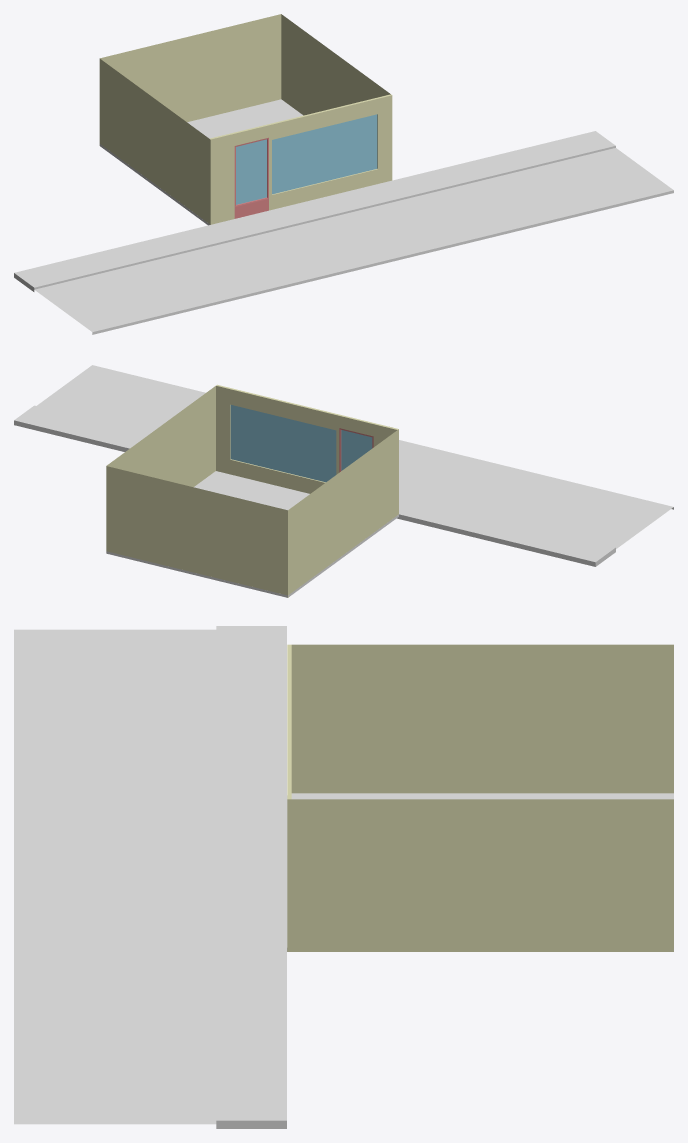
File: SM_Tienda.fbx
3 renders of one model, top to bottom at view 1: azimuth 30°, elevation 25°; view 2: azimuth 150°, elevation 25°; view 3: azimuth 270°, elevation 25°, orthographic. The views are drawn at different scales.
Parts seen in each view (by area): view 1: Cube.026, Cube.023, Cube.034, Cube.022; view 2: Cube.023, Cube.026, Cube.022, Cube.034; view 3: Cube.026, Cube.023, Cube.022.
Boxes of the visible parts, box(x1,y1,x2,y2) form: Cube.026: box(14, 131, 673, 334); Cube.023: box(99, 14, 392, 224); Cube.034: box(234, 137, 268, 218); Cube.022: box(100, 99, 303, 225); Cube.023: box(106, 384, 398, 597); Cube.026: box(14, 365, 673, 566); Cube.022: box(106, 471, 398, 597); Cube.034: box(339, 428, 373, 472); Cube.026: box(14, 626, 286, 1128); Cube.023: box(287, 644, 673, 951); Cube.022: box(287, 793, 673, 951).
Bounding box in the file's own units: 4519 × 668 × 2548.
